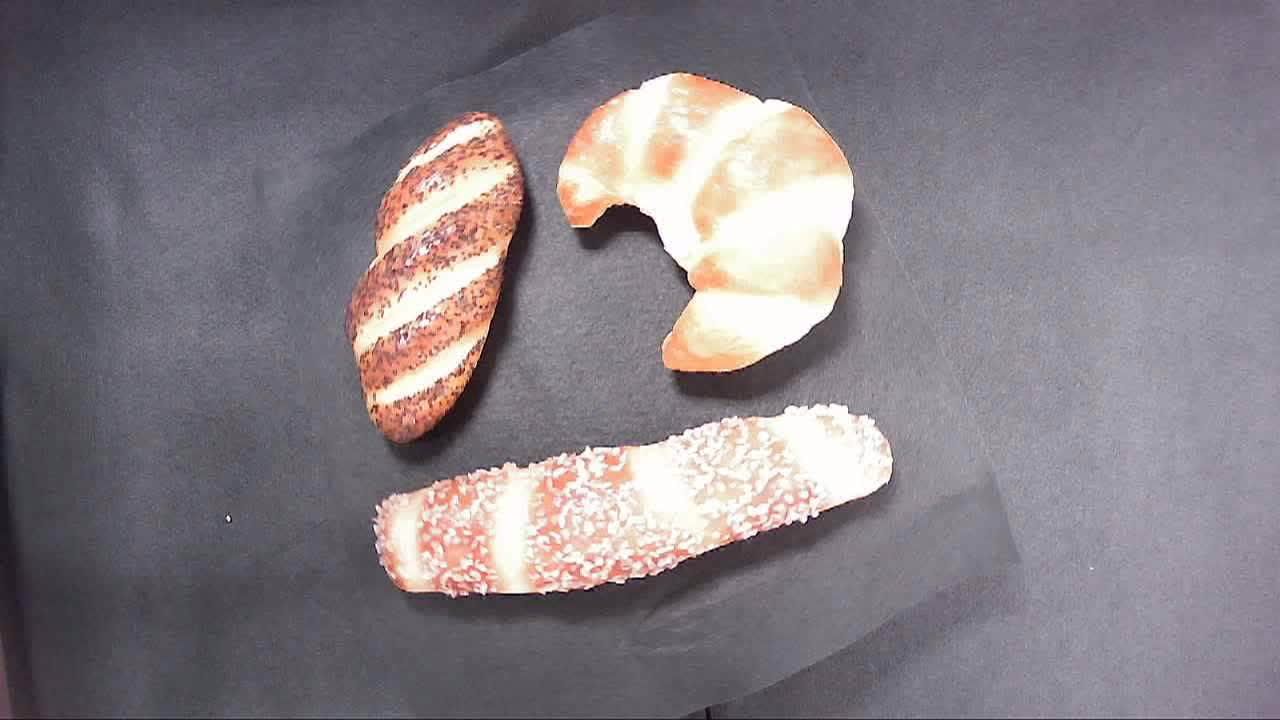cow: (551, 68, 854, 381)
long: (491, 398, 905, 606), (365, 454, 908, 599)
slash: (345, 106, 528, 450)
